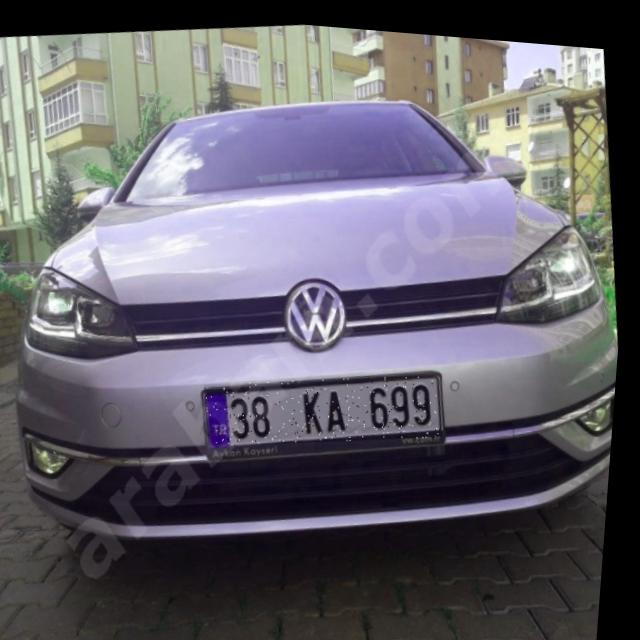license_plate: (206, 351, 452, 457)
